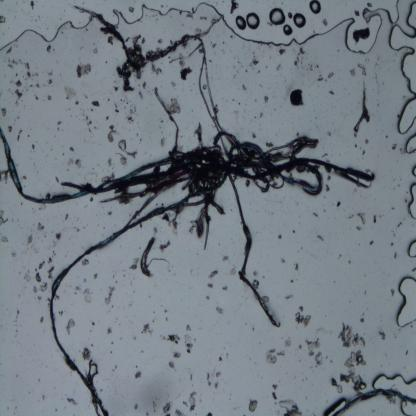Air bubble: (289, 3, 389, 61), (386, 24, 416, 139), (362, 1, 416, 64), (392, 274, 416, 331), (372, 372, 416, 399), (323, 397, 347, 416), (407, 180, 416, 222), (270, 7, 286, 26), (403, 135, 416, 156), (246, 12, 261, 30), (401, 398, 416, 415), (406, 236, 416, 261), (87, 360, 100, 378), (235, 13, 247, 32), (292, 13, 306, 28), (309, 1, 323, 16), (284, 23, 294, 36), (410, 164, 416, 178)
Background material: (228, 174, 280, 328), (329, 349, 369, 395), (339, 320, 366, 347), (304, 333, 323, 366), (117, 139, 140, 166), (278, 396, 301, 416), (126, 34, 146, 55), (294, 305, 312, 328), (10, 76, 26, 101), (289, 86, 306, 108), (183, 390, 198, 413), (352, 27, 372, 44), (124, 101, 137, 124), (164, 400, 182, 415), (107, 123, 119, 145), (76, 63, 92, 79), (183, 333, 194, 356), (167, 97, 181, 115), (181, 65, 194, 83), (104, 285, 116, 304), (63, 85, 78, 100), (293, 48, 305, 66), (265, 347, 277, 365), (66, 316, 76, 336), (166, 332, 180, 346), (67, 156, 81, 170), (22, 63, 35, 78), (171, 347, 183, 361), (249, 55, 260, 70), (142, 322, 154, 335), (159, 240, 170, 254), (83, 289, 93, 304), (0, 210, 9, 226), (249, 398, 258, 414), (130, 256, 140, 270), (214, 302, 224, 316), (82, 345, 90, 362), (356, 64, 368, 75), (26, 233, 35, 247), (214, 371, 221, 389), (47, 265, 55, 280), (150, 64, 162, 74), (377, 329, 387, 341), (272, 382, 278, 401), (358, 211, 366, 225), (208, 268, 219, 278), (35, 272, 44, 284), (252, 278, 260, 291), (89, 100, 101, 108), (134, 368, 142, 380), (106, 155, 114, 167), (206, 372, 212, 388), (36, 222, 45, 232), (283, 338, 292, 348), (349, 66, 357, 77), (167, 359, 174, 371), (285, 292, 294, 301), (80, 259, 90, 267), (38, 260, 46, 270), (316, 73, 324, 83), (46, 41, 52, 54), (55, 230, 62, 241), (263, 294, 270, 305), (0, 106, 7, 117), (6, 124, 14, 133), (40, 283, 48, 292), (278, 48, 287, 56), (228, 268, 236, 277), (265, 140, 274, 148), (264, 93, 270, 105), (293, 262, 300, 272), (106, 325, 112, 336), (372, 213, 378, 224), (353, 9, 361, 17), (326, 71, 334, 79), (0, 236, 9, 243), (278, 349, 285, 358), (221, 254, 228, 263), (0, 15, 7, 24), (316, 235, 324, 242), (328, 90, 336, 97), (359, 316, 366, 324), (391, 142, 397, 151), (322, 18, 328, 27), (93, 272, 99, 280), (364, 137, 370, 145), (356, 225, 362, 232), (394, 251, 398, 261), (30, 2, 35, 10), (411, 266, 416, 274), (208, 283, 214, 289), (222, 284, 228, 290), (336, 201, 341, 208), (370, 240, 374, 246)
Cellulose filter fibre: (158, 133, 319, 242), (0, 1, 225, 69), (321, 389, 416, 416), (351, 78, 371, 132), (140, 234, 156, 279)
Cotton: (48, 198, 189, 413), (0, 128, 192, 204), (280, 163, 325, 198)
